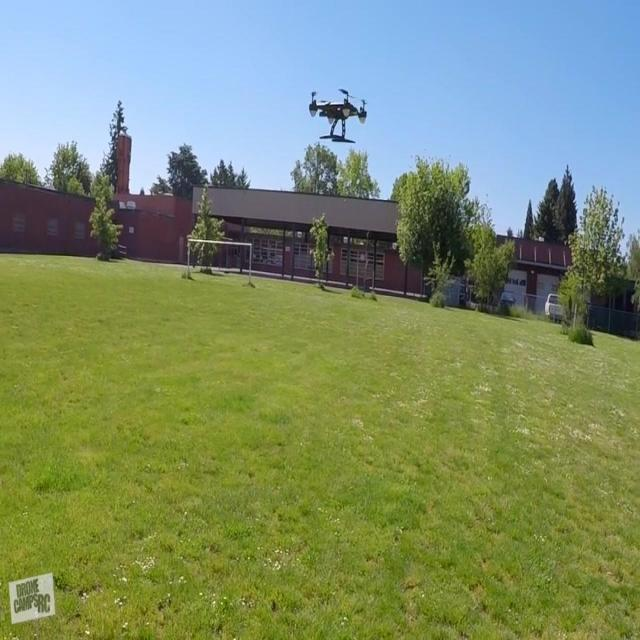UAV: (309, 89, 368, 143)
